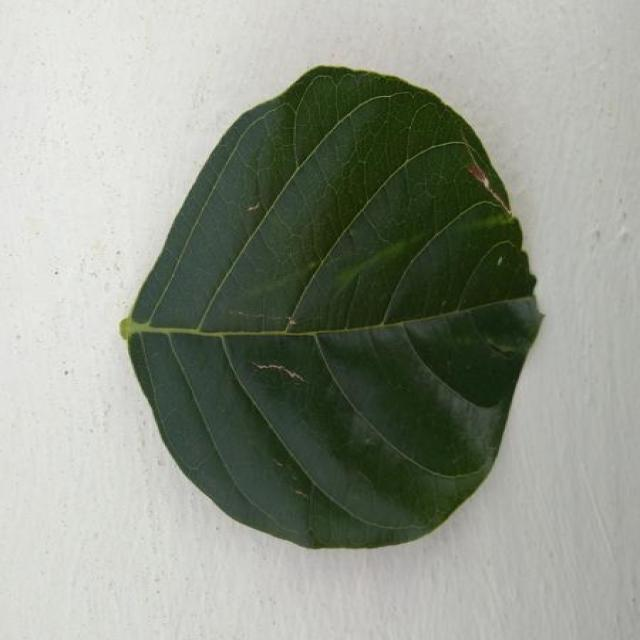honge: (122, 66, 542, 548)
